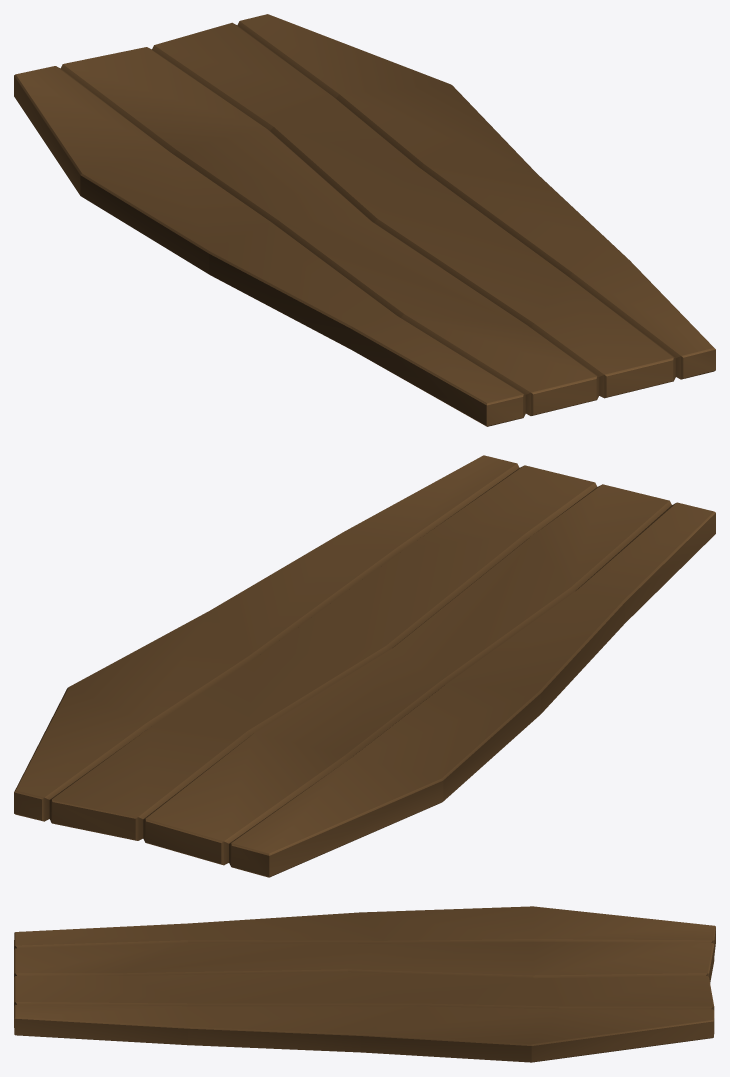
The model's file is obj_coffinCap.FBX.
The picture shows the model from 3 angles, top to bottom: view 1: azimuth 30°, elevation 25°; view 2: azimuth 150°, elevation 25°; view 3: azimuth 270°, elevation 25°; orthographic projection. The views are drawn at different scales.
Parts seen in each view (by area): view 1: obj_coffinCap; view 2: obj_coffinCap; view 3: obj_coffinCap.
Part boxes in pixels (x1=…): obj_coffinCap: x1=14, y1=14, x2=715, y2=426; obj_coffinCap: x1=14, y1=455, x2=715, y2=877; obj_coffinCap: x1=14, y1=906, x2=715, y2=1062.
Size of the model in its own units: 1.55 by 0.0947 by 3.31.
